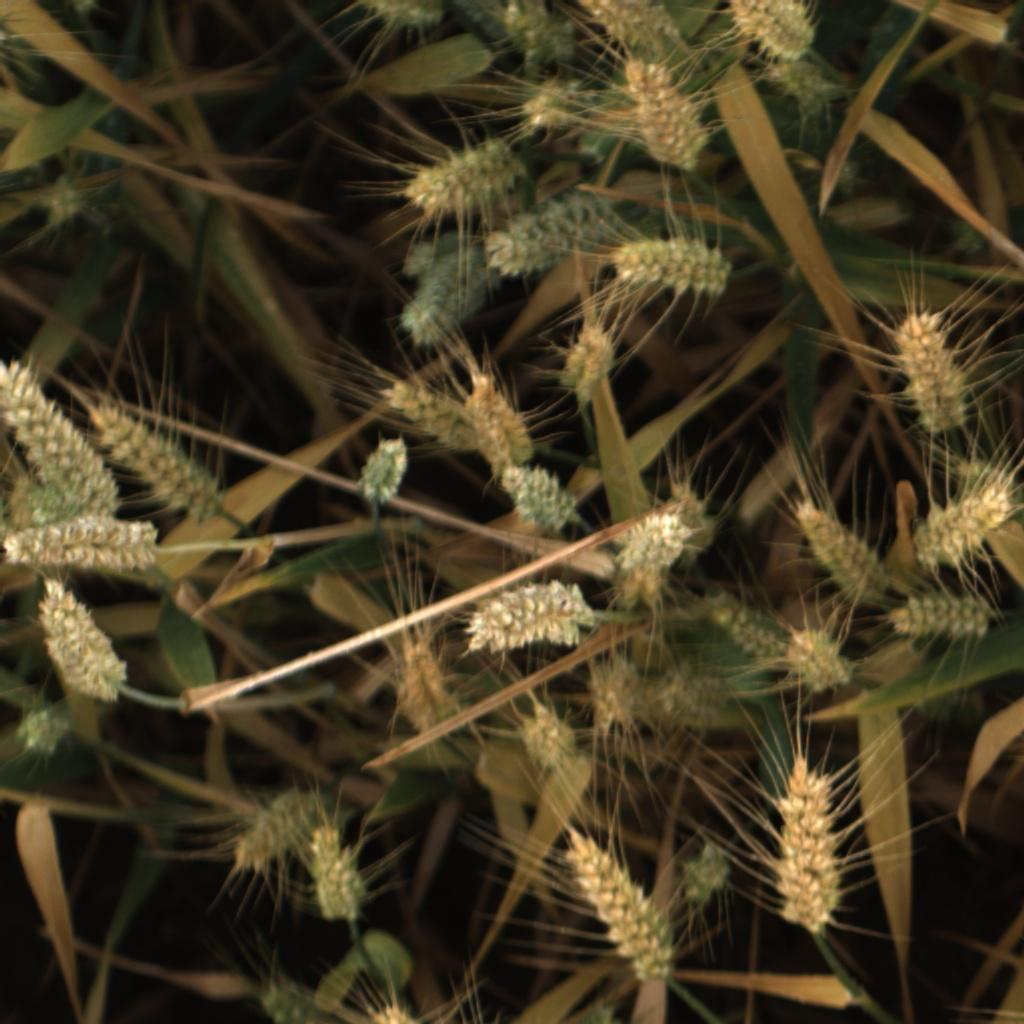0-0: (0, 354, 129, 522), (558, 828, 673, 978), (93, 398, 227, 523), (774, 755, 847, 930), (37, 573, 131, 707), (0, 510, 174, 581), (396, 246, 507, 352), (890, 308, 973, 437), (790, 493, 888, 601), (400, 134, 514, 226), (624, 58, 715, 173), (604, 229, 741, 304), (468, 578, 592, 658), (230, 783, 333, 875), (523, 180, 629, 269), (912, 486, 1017, 569), (305, 819, 376, 930), (464, 366, 538, 469), (381, 371, 472, 453), (575, 0, 692, 61), (497, 462, 583, 536), (389, 639, 451, 739), (727, 0, 823, 64), (895, 585, 997, 645), (705, 595, 786, 670), (653, 477, 721, 566), (24, 153, 93, 240), (610, 508, 690, 580), (753, 57, 840, 120), (514, 699, 586, 775), (503, 1, 580, 68), (9, 470, 91, 531), (653, 666, 734, 727), (588, 652, 653, 728), (562, 323, 621, 406), (780, 627, 854, 691), (951, 455, 1024, 518), (353, 432, 412, 509), (518, 79, 591, 141), (483, 215, 544, 280), (398, 229, 478, 278), (603, 557, 666, 619), (677, 843, 735, 905), (355, 0, 444, 34), (16, 708, 72, 761), (251, 979, 315, 1024), (450, 0, 514, 45), (912, 684, 963, 729), (818, 152, 863, 199), (362, 996, 429, 1023), (948, 216, 987, 261), (66, 0, 99, 24)
